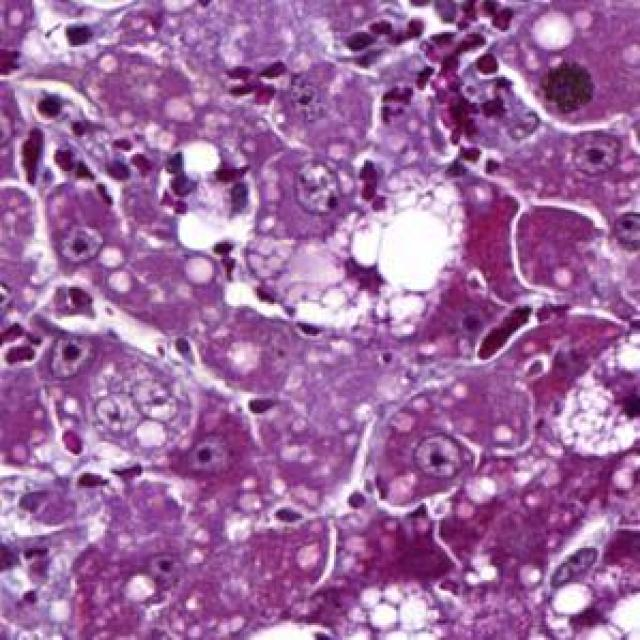ballooning: (329, 163, 468, 319), (541, 306, 640, 464)
